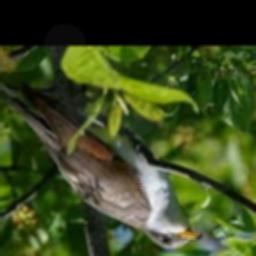Cuckoo: (8, 84, 202, 250)
